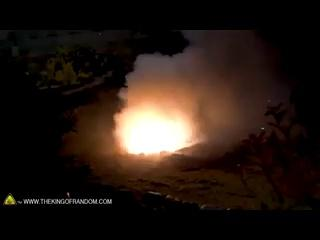Fire: (121, 98, 194, 154)
